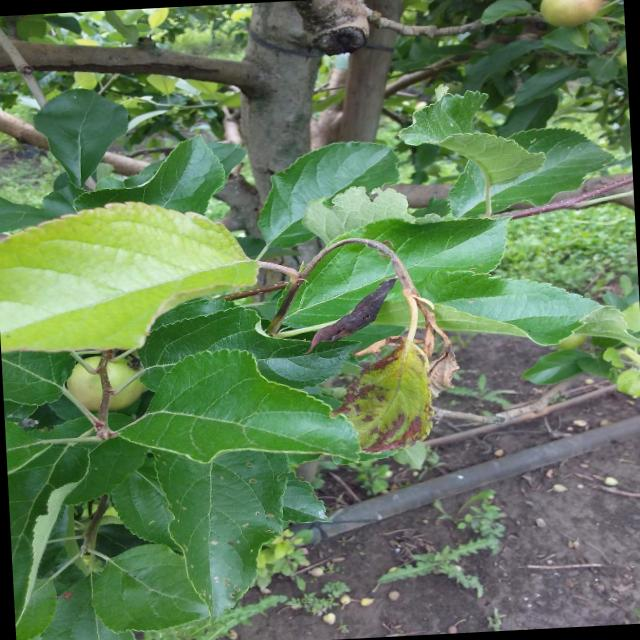-FireBlight-: (281, 234, 459, 456)
